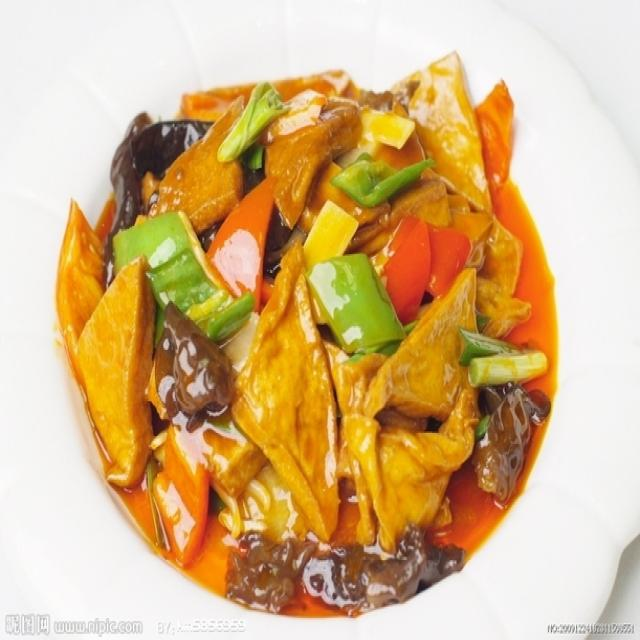豆腐料理: (47, 39, 575, 618)
